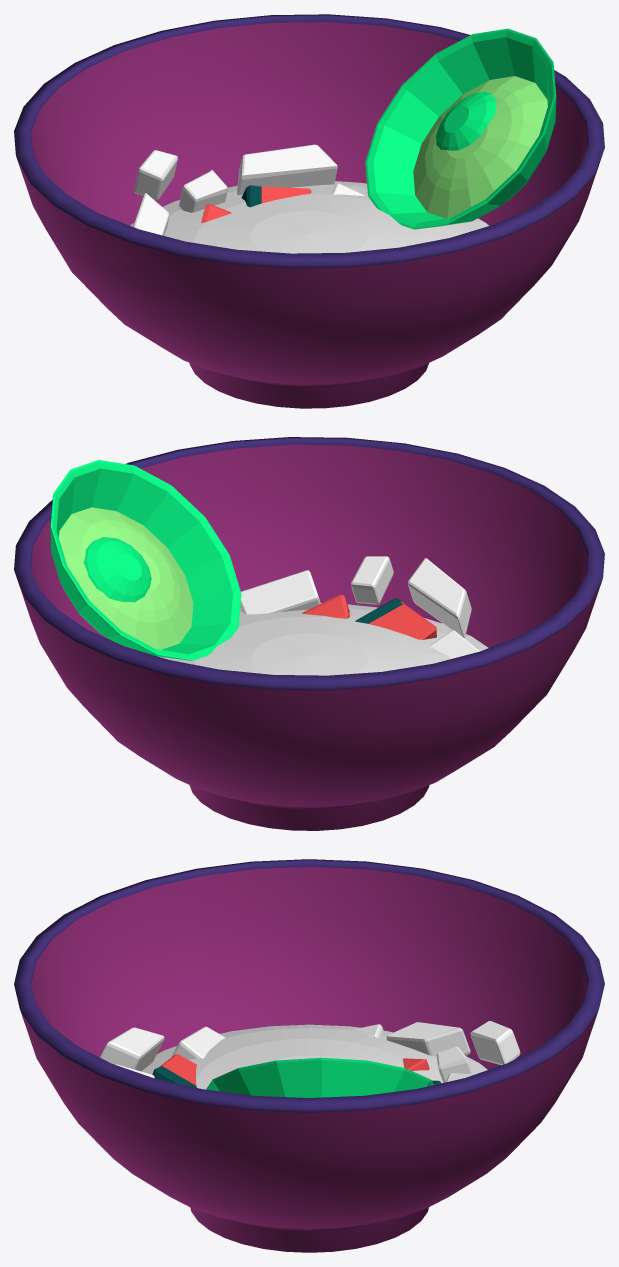
The model's file is unmixed_bitterballen_model.fbx.
3 views of the same model, one above another, from view 1: azimuth 30°, elevation 25°; view 2: azimuth 150°, elevation 25°; view 3: azimuth 270°, elevation 25° (orthographic).
Parts seen in each view (by area): view 1: Mixing_Bowl, Egg_Cracked, Flour, Meat_Chopped_02; view 2: Mixing_Bowl, Egg_Cracked, Flour, Meat_Chopped_01; view 3: Mixing_Bowl, Flour, Egg_Cracked, Meat_Chopped_02, Meat_Chopped_01.
Boxes of the visible parts, x1,y1,x2,y2 form: Mixing_Bowl: (14,14,604,408); Egg_Cracked: (365,28,556,229); Flour: (130,181,488,253); Meat_Chopped_02: (132,144,364,235); Mixing_Bowl: (14,437,604,830); Egg_Cracked: (50,460,241,660); Flour: (158,603,488,675); Meat_Chopped_01: (240,556,479,658); Mixing_Bowl: (14,859,604,1252); Flour: (141,1024,487,1089); Egg_Cracked: (206,1057,433,1097); Meat_Chopped_02: (353,1021,520,1084); Meat_Chopped_01: (100,1026,225,1087).
Size of the model in its own units: 48.76 by 48.76 by 24.01.
